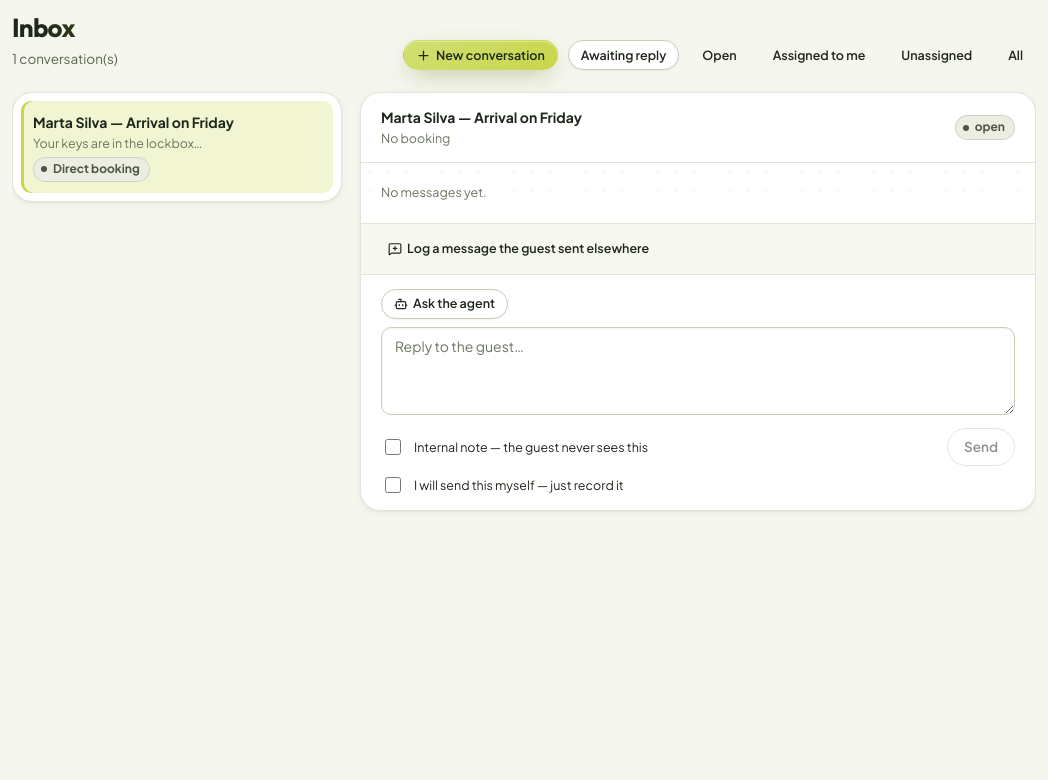
Test case: logging messages that travelled elsewhere › asks the property agent for a draft and shows why it was held
What coordinates should you click on to do the following:
click the button "Ask the agent"
I would click on:
 (444, 304)
Its box is [381,288,508,318].
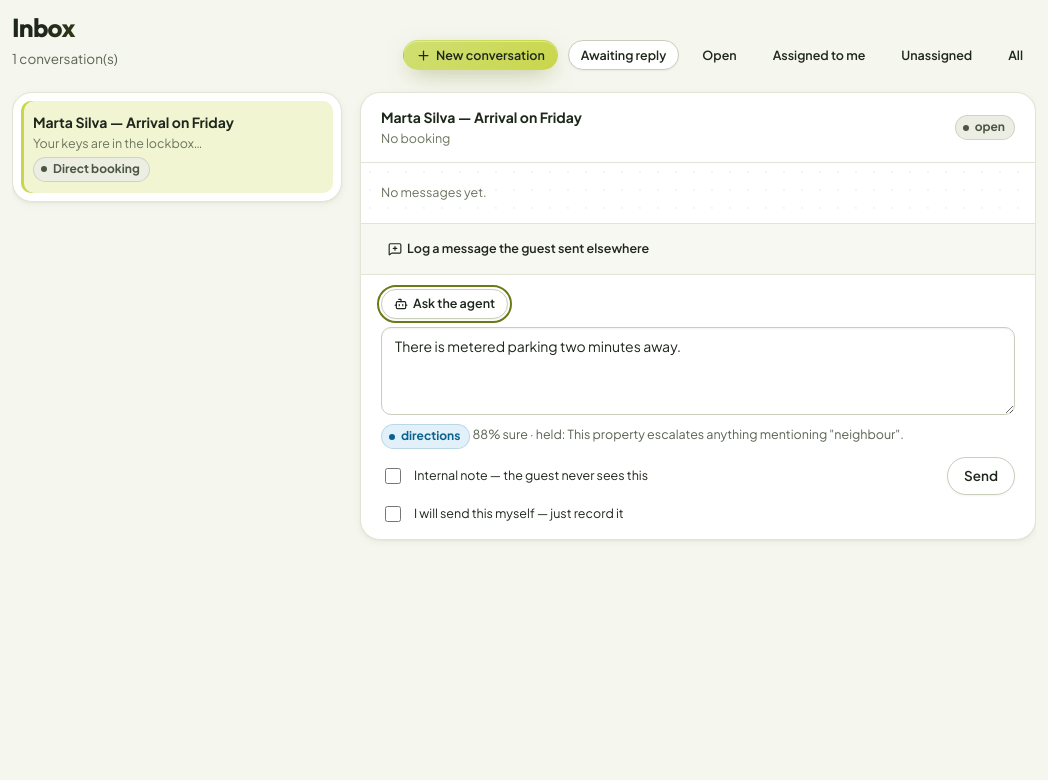
Expected: the text box with placeholder "Reply to the guest…" holds "There is metered parking two minutes away.", [381,326,1015,414]
Expected: the text "88% sure" is shown, [381,424,904,449]
Expected: the text "escalates anything mentioning" is shown, [536,426,904,442]
